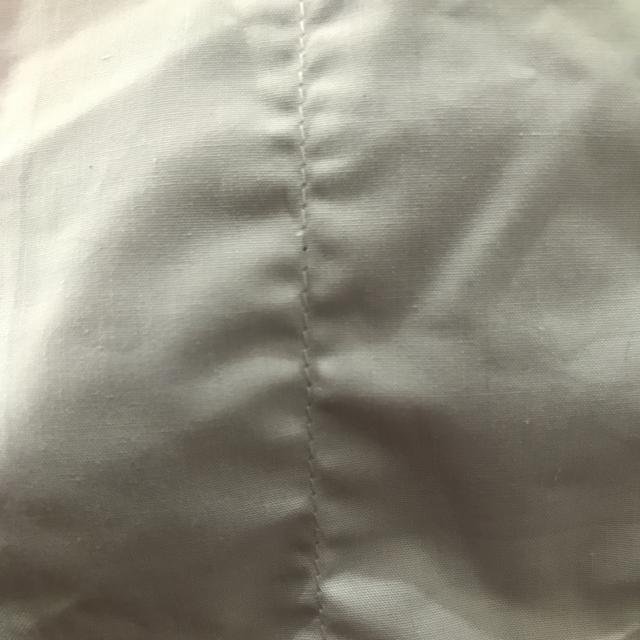broken: (278, 214, 342, 292)
